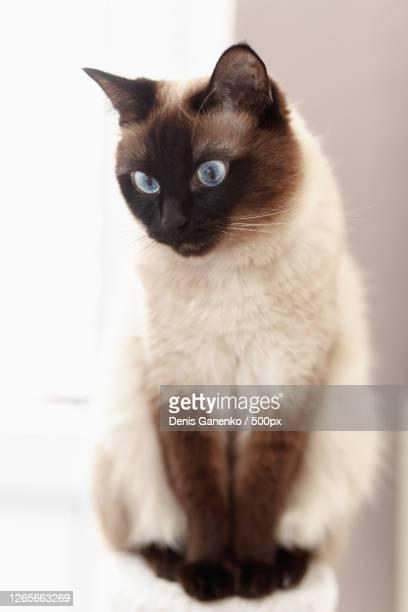siamese: (80, 37, 307, 273)
